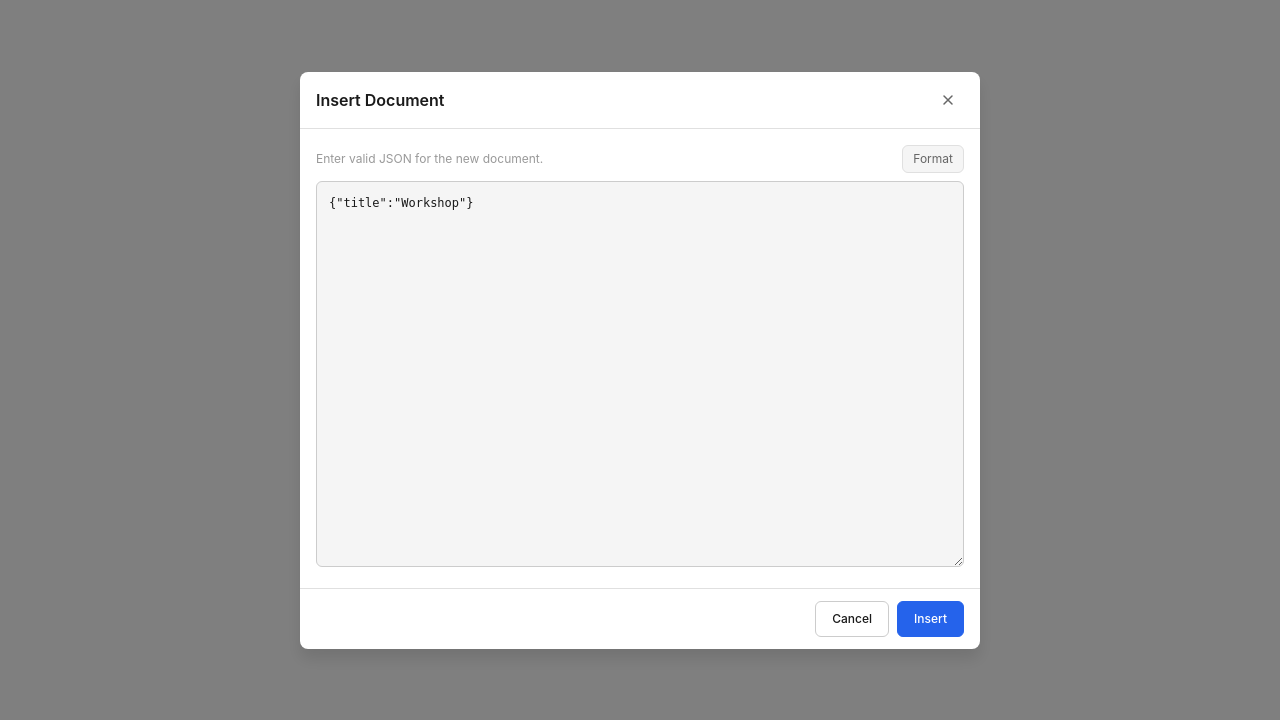
Test: JsonEditorDialog › save — insert mode › shows error message on API failure
Click the button "Insert": [931, 618] box [897,600,964,636]
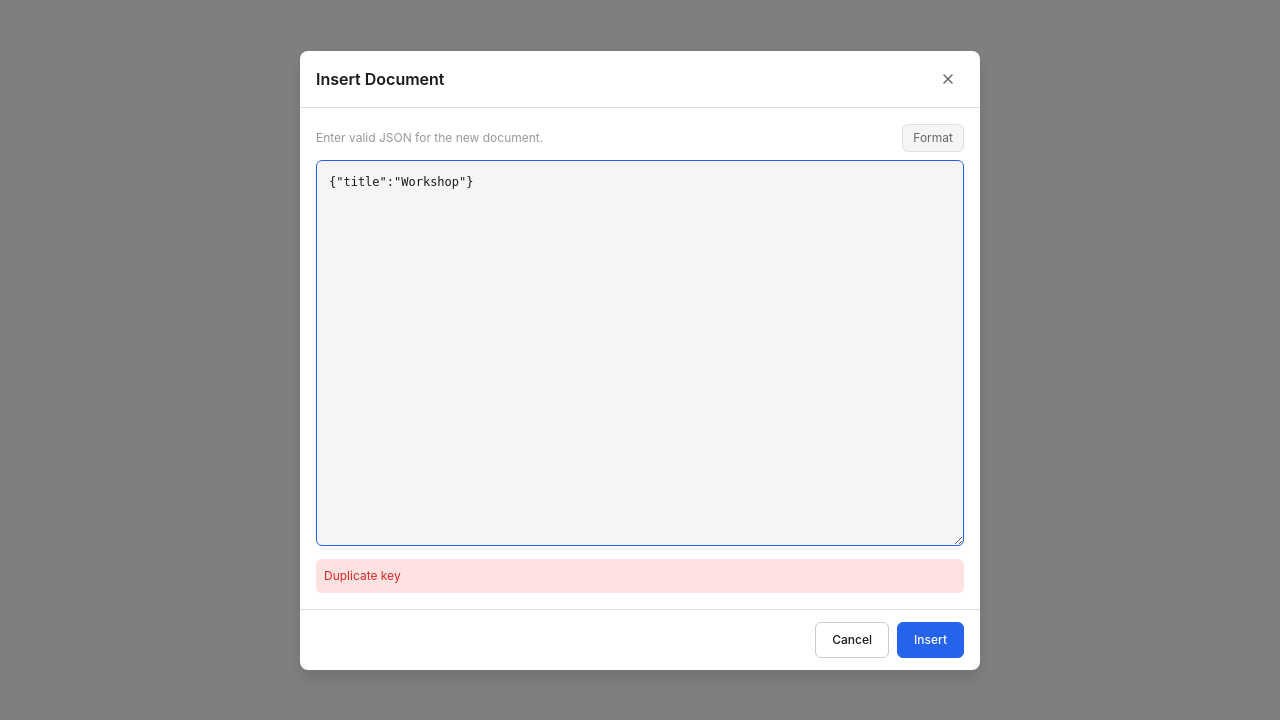
Now the text with class "error-message" reads "Duplicate key", box [324,568,401,582]
